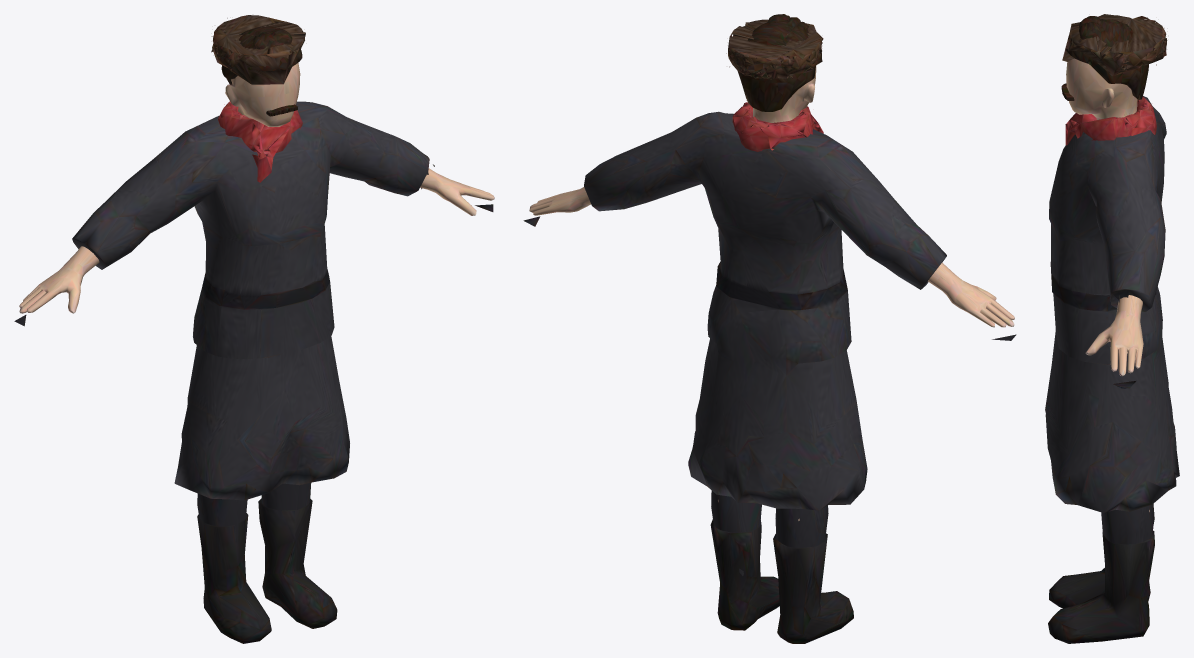
File: npc_x_man_w1.glb
3 renders of one model, left to right at view 1: azimuth 30°, elevation 25°; view 2: azimuth 150°, elevation 25°; view 3: azimuth 270°, elevation 25°, orthographic. The views are drawn at different scales.
Parts seen in each view (by area): view 1: Human; view 2: Human; view 3: Human.
Part boxes in pixels (x1,y1,x2,y2): Human: [14, 15, 494, 643]; Human: [523, 14, 1016, 643]; Human: [1045, 14, 1179, 643].
Size of the model in its own units: 1.55 by 1.83 by 0.3724.
Materials: 1 (1 with a texture image).
